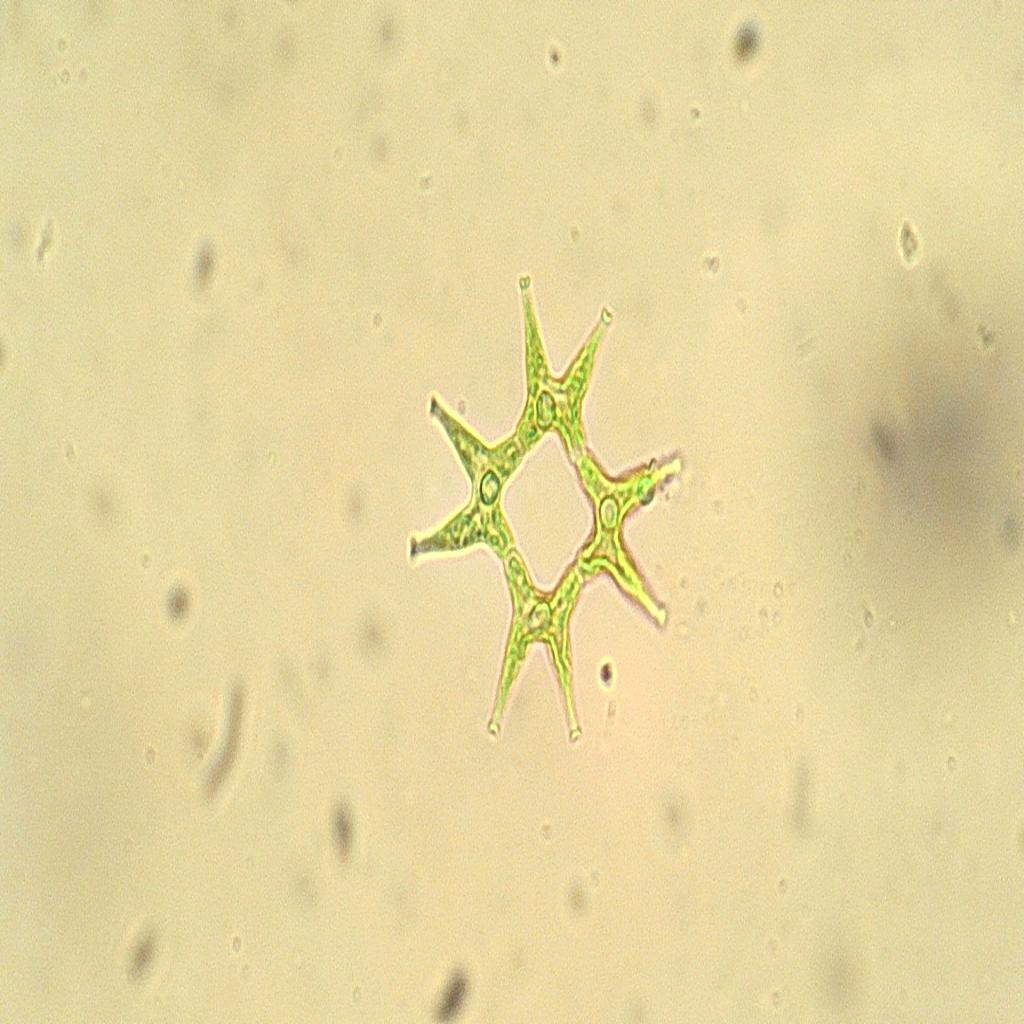Pediastrum_75O: (389, 255, 703, 769)
